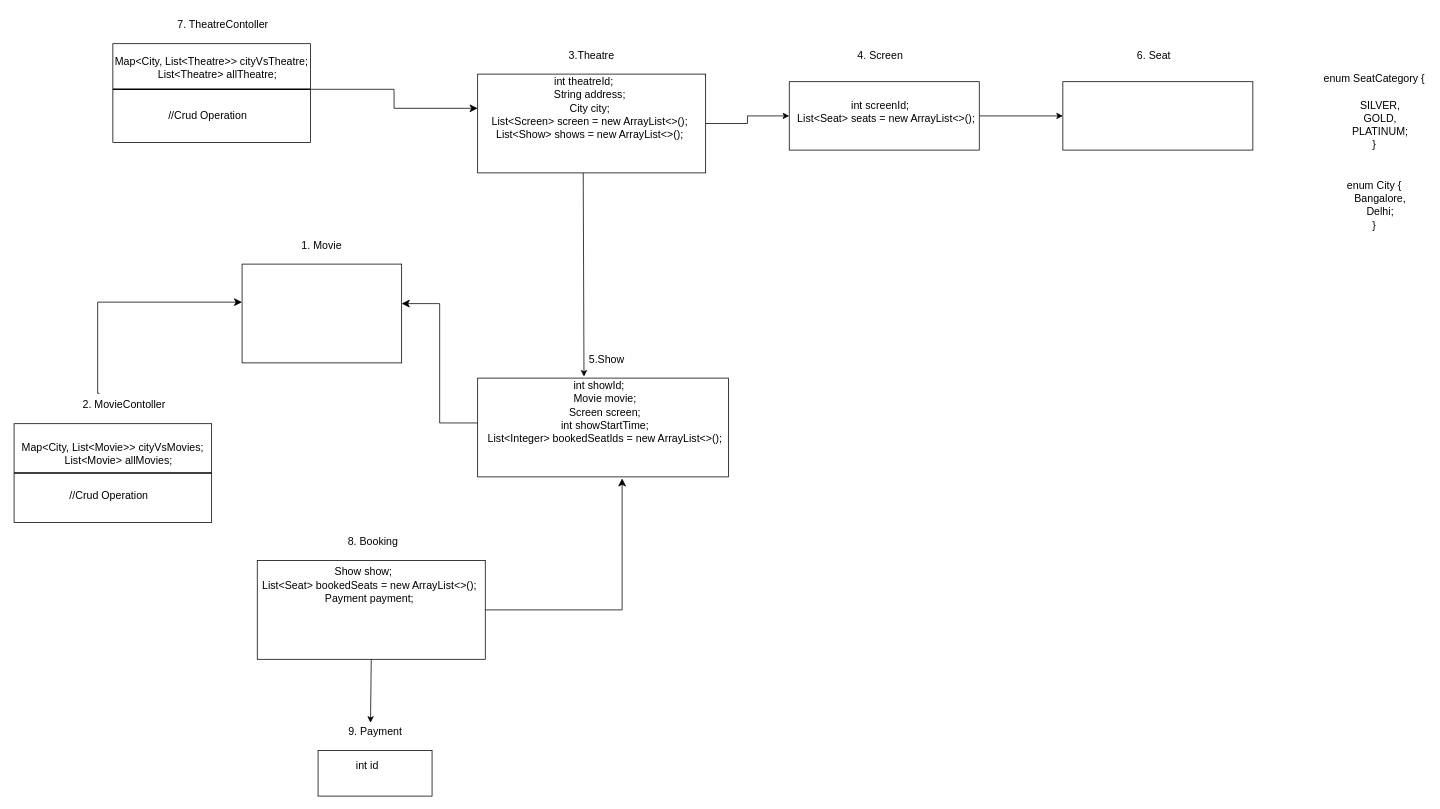
Image size: 1440x809. Some labels were removed from this diagram. Here are the shapes that lost their labels. From the top down, the box of each, then its label:
(1062, 81, 1253, 150): int seatId; int row; SeatCategory seatCategory;
(241, 263, 402, 363): int movieId; String movieName; int movieDurationInMinutes;
